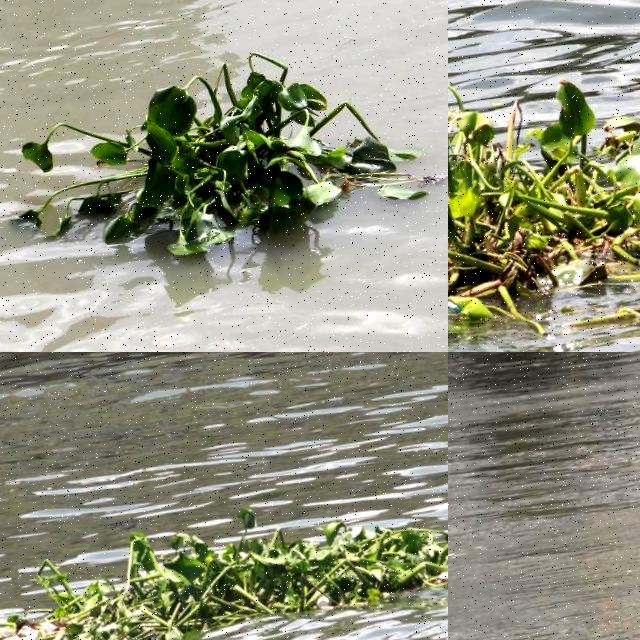water-hyacinth: (1, 32, 437, 273), (1, 496, 449, 640), (449, 1, 640, 326)
